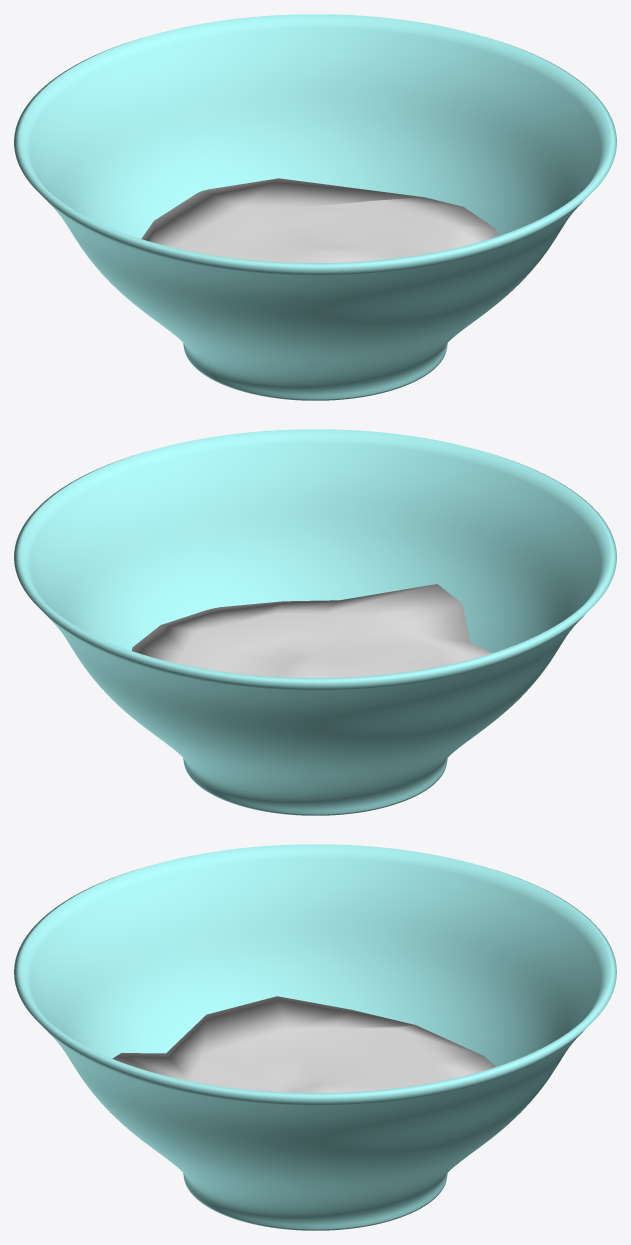
Rendered from mixture.fbx.
The picture shows the model from 3 angles, top to bottom: view 1: azimuth 30°, elevation 25°; view 2: azimuth 150°, elevation 25°; view 3: azimuth 270°, elevation 25°; orthographic projection.
Visible parts, largest first — view 1: Sphere, RetopoGroup1; view 2: Sphere, RetopoGroup1; view 3: Sphere, RetopoGroup1.
Boxes of the visible parts, x1,y1,x2,y2 form: Sphere: [14, 14, 616, 400]; RetopoGroup1: [141, 178, 498, 263]; Sphere: [14, 429, 616, 815]; RetopoGroup1: [132, 584, 492, 678]; Sphere: [14, 844, 616, 1230]; RetopoGroup1: [112, 996, 495, 1093].
Size of the model in its own units: 217 by 82.13 by 217.
